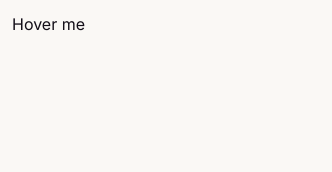
Test: Tooltip › shows TooltipContent on hover and does not throw
Expected: the text "Hovered tooltip text" is not shown
Hover over the button "Hover me" at (48, 25), box x1=12 y1=12 x2=85 y2=38
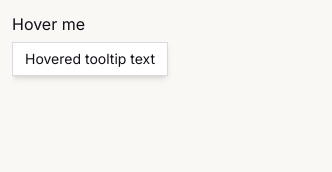
Expected: the tooltip "Hovered tooltip text" is shown, x1=12 y1=42 x2=168 y2=76
